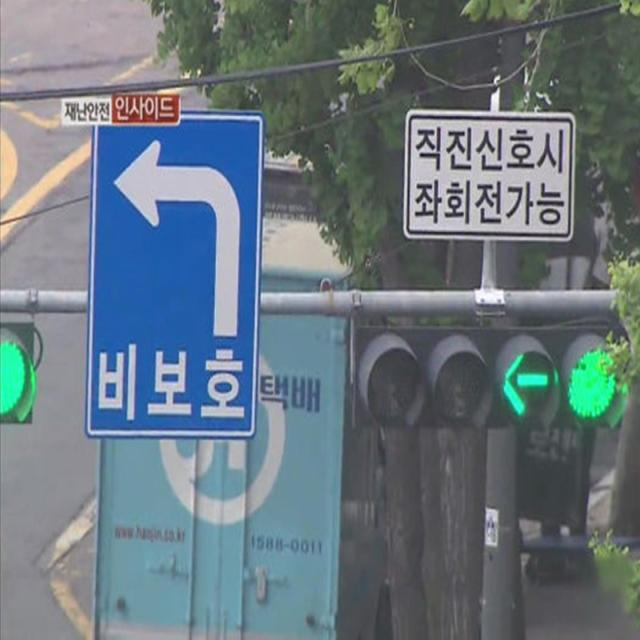Green Light: (565, 327, 622, 433), (0, 322, 34, 428)
